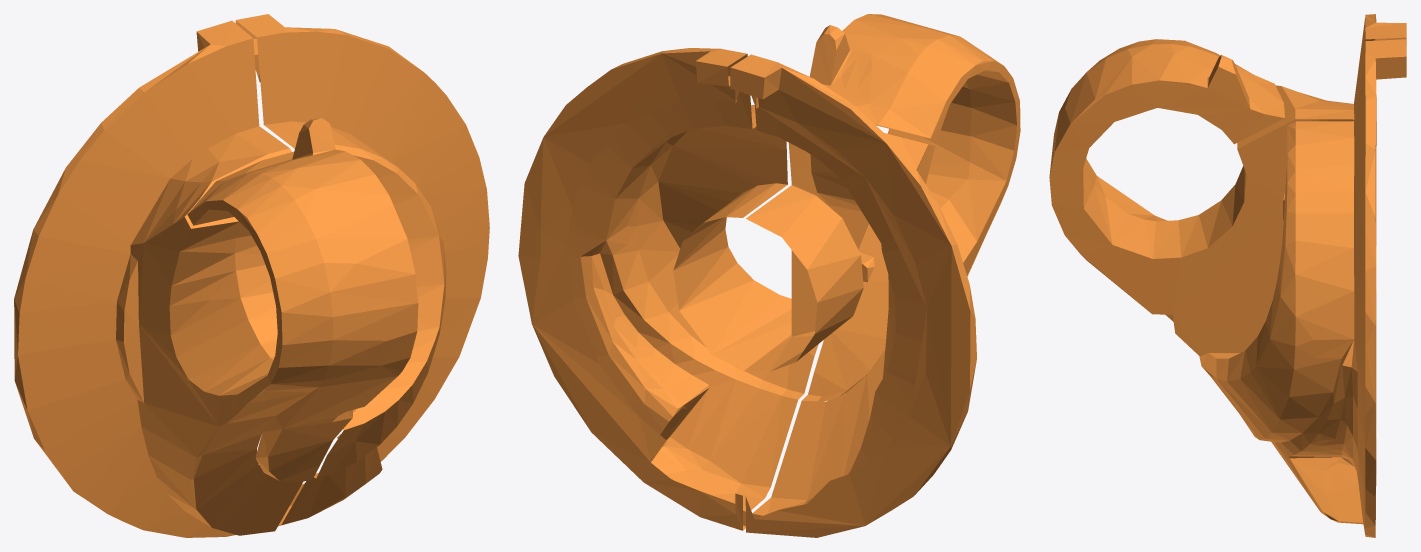
File: youbot_test_export_urdf_ME_Arm1_m0_sub0_sub0_vis_1.dae
The picture shows the model from 3 angles, left to right: view 1: azimuth 30°, elevation 25°; view 2: azimuth 150°, elevation 25°; view 3: azimuth 270°, elevation 25°; orthographic projection. The views are drawn at different scales.
Parts seen in each view (by area): view 1: Node_0000015E15F53FC0; view 2: Node_0000015E15F53FC0; view 3: Node_0000015E15F53FC0.
Boxes of the visible parts, left/top/right/bottom form: Node_0000015E15F53FC0: left=14, top=14, right=489, bottom=537; Node_0000015E15F53FC0: left=518, top=14, right=1020, bottom=537; Node_0000015E15F53FC0: left=1049, top=14, right=1406, bottom=537.
Bounding box in the file's own units: 0.1699 × 0.1705 × 0.116.
